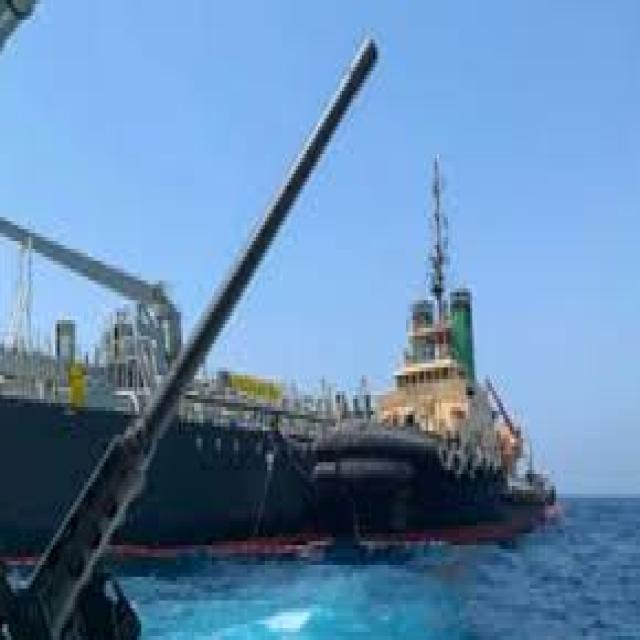navalvessels: (320, 158, 558, 542)
